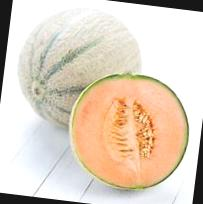Melon Ripe: (9, 0, 149, 137), (61, 63, 195, 197)
